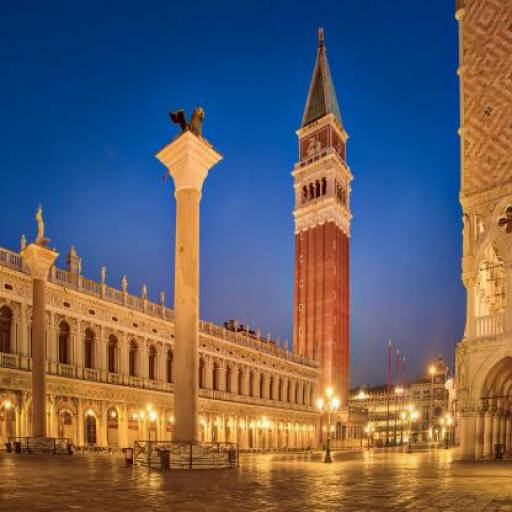street light: (318, 388, 339, 462), (140, 406, 156, 457), (402, 405, 418, 453), (257, 417, 270, 453), (430, 368, 436, 446), (441, 414, 452, 448), (365, 424, 373, 450)
